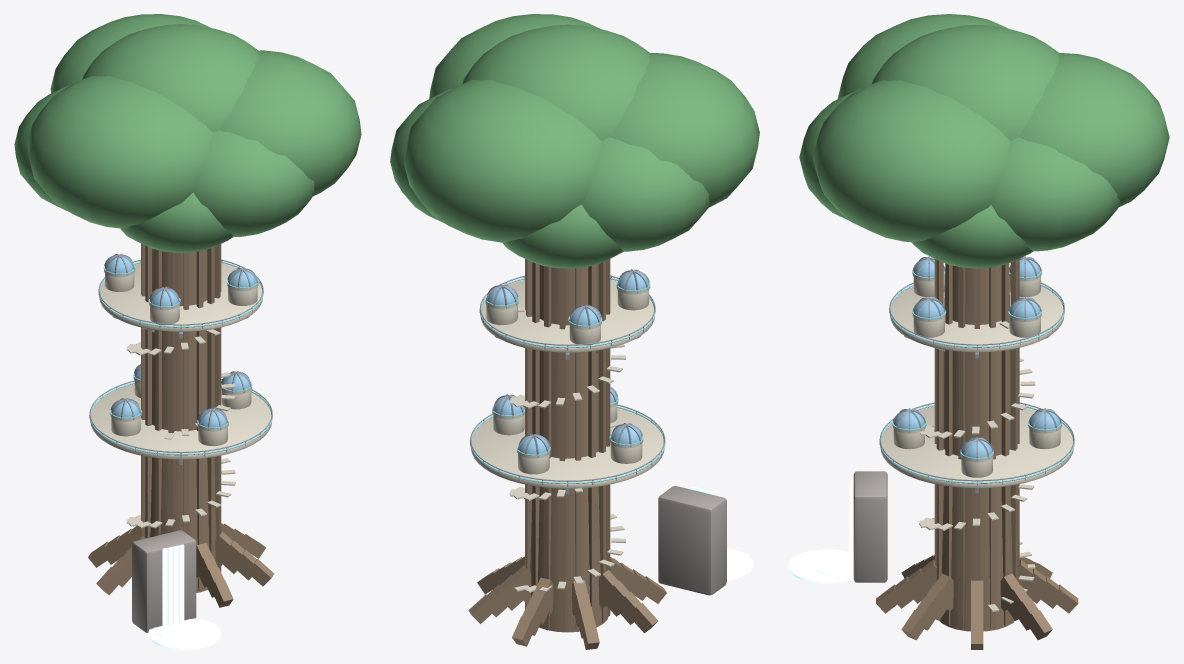
The model's file is ArbolMadre.fbx.
3 renders of one model, left to right at view 1: azimuth 30°, elevation 25°; view 2: azimuth 150°, elevation 25°; view 3: azimuth 270°, elevation 25°, orthographic. The views are drawn at different scales.
Visible parts, largest first — view 1: ArbolMadre_Hoja, ArbolMadre_Tronco, ArbolMadre_Cuerpo, ArbolMadre_Roca, ArbolMadre_Agua, ArbolMadre_Metal, ArbolMadre_Cristal, ArbolMadre_Luz; view 2: ArbolMadre_Hoja, ArbolMadre_Tronco, ArbolMadre_Cuerpo, ArbolMadre_Roca, ArbolMadre_Metal, ArbolMadre_Cristal, ArbolMadre_Luz, ArbolMadre_Agua; view 3: ArbolMadre_Hoja, ArbolMadre_Tronco, ArbolMadre_Cuerpo, ArbolMadre_Roca, ArbolMadre_Metal, ArbolMadre_Cristal, ArbolMadre_Agua, ArbolMadre_Luz.
Part boxes in pixels (left/top/right/bottom): ArbolMadre_Hoja: left=14, top=14, right=361, bottom=252; ArbolMadre_Tronco: left=88, top=243, right=274, bottom=607; ArbolMadre_Cuerpo: left=90, top=263, right=271, bottom=528; ArbolMadre_Roca: left=132, top=530, right=196, bottom=632; ArbolMadre_Agua: left=148, top=544, right=220, bottom=649; ArbolMadre_Metal: left=89, top=253, right=272, bottom=464; ArbolMadre_Cristal: left=105, top=256, right=257, bottom=427; ArbolMadre_Luz: left=89, top=261, right=272, bottom=455; ArbolMadre_Hoja: left=390, top=14, right=759, bottom=268; ArbolMadre_Tronco: left=468, top=259, right=666, bottom=649; ArbolMadre_Cuerpo: left=471, top=279, right=664, bottom=592; ArbolMadre_Roca: left=658, top=486, right=726, bottom=595; ArbolMadre_Metal: left=470, top=269, right=665, bottom=494; ArbolMadre_Cristal: left=487, top=272, right=648, bottom=454; ArbolMadre_Luz: left=470, top=277, right=665, bottom=483; ArbolMadre_Agua: left=691, top=486, right=752, bottom=580; ArbolMadre_Hoja: left=799, top=14, right=1169, bottom=268; ArbolMadre_Tronco: left=876, top=258, right=1078, bottom=649; ArbolMadre_Cuerpo: left=880, top=274, right=1073, bottom=611; ArbolMadre_Roca: left=853, top=471, right=887, bottom=582; ArbolMadre_Metal: left=879, top=256, right=1074, bottom=493; ArbolMadre_Cristal: left=893, top=259, right=1060, bottom=457; ArbolMadre_Agua: left=788, top=477, right=853, bottom=583; ArbolMadre_Luz: left=879, top=269, right=1074, bottom=483.
Size of the model in its own units: 15000 by 26220 by 15748.
